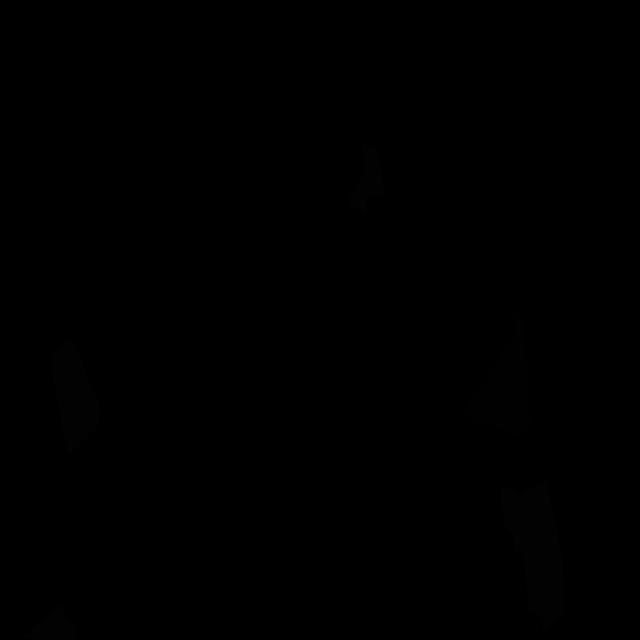cardboard: (500, 479, 564, 637), (51, 336, 100, 454), (350, 144, 384, 218), (20, 604, 78, 640)
rigid_plastic: (465, 310, 532, 440)
